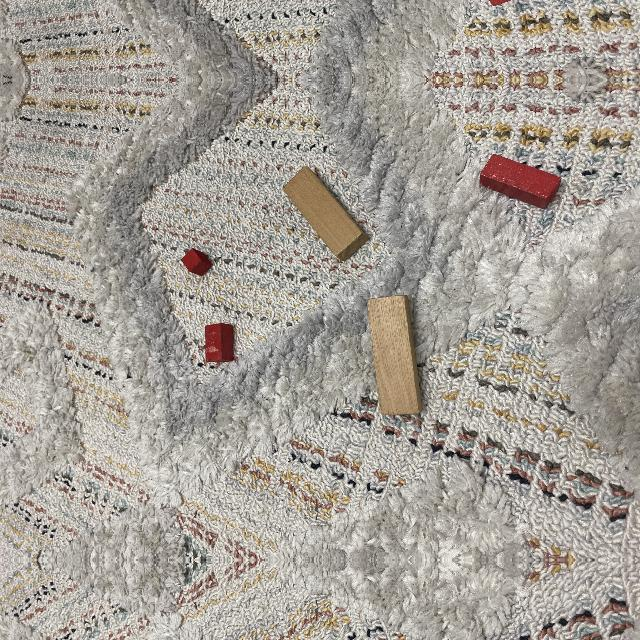jenga: (283, 166, 369, 262), (367, 295, 423, 416)
red block: (480, 154, 561, 209), (205, 323, 234, 363)
red cube: (181, 248, 212, 276)
